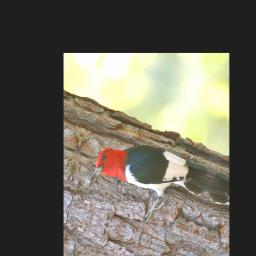Woodpecker: (85, 124, 212, 242)
